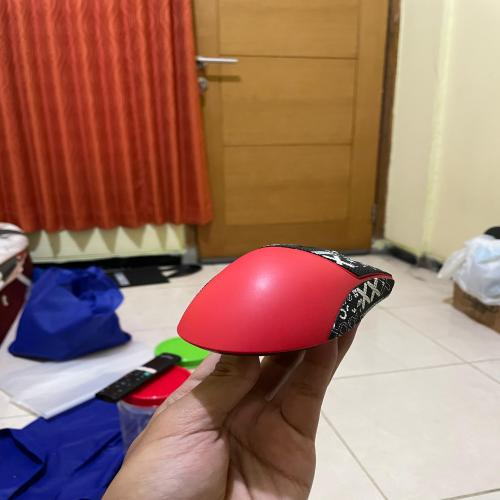Mouse: (164, 231, 424, 365)
